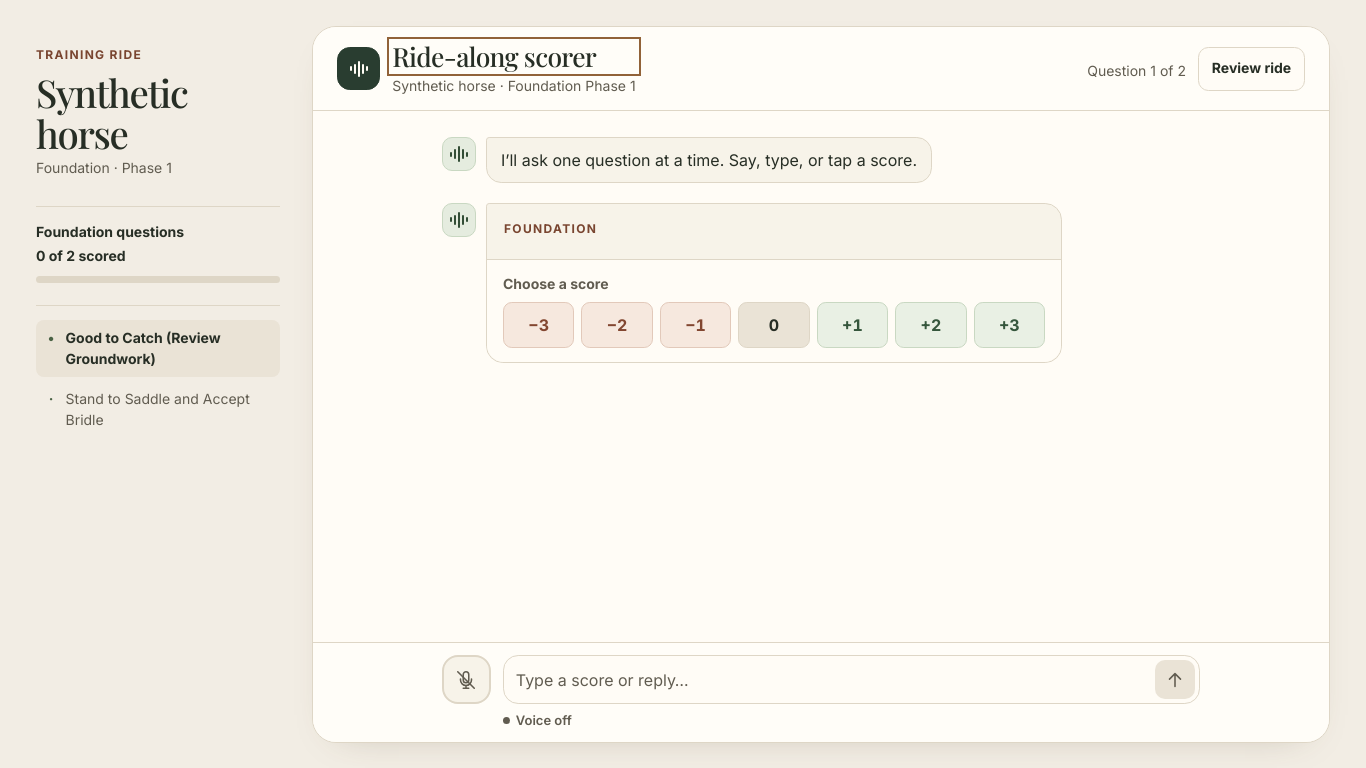
keeps invalid written input two or three on the same question without an inference or write
This screenshot has width=1366, height=768.
Type "two or three" into the field named "Type a message" at point(830, 680), box 508,663 -> 1151,697
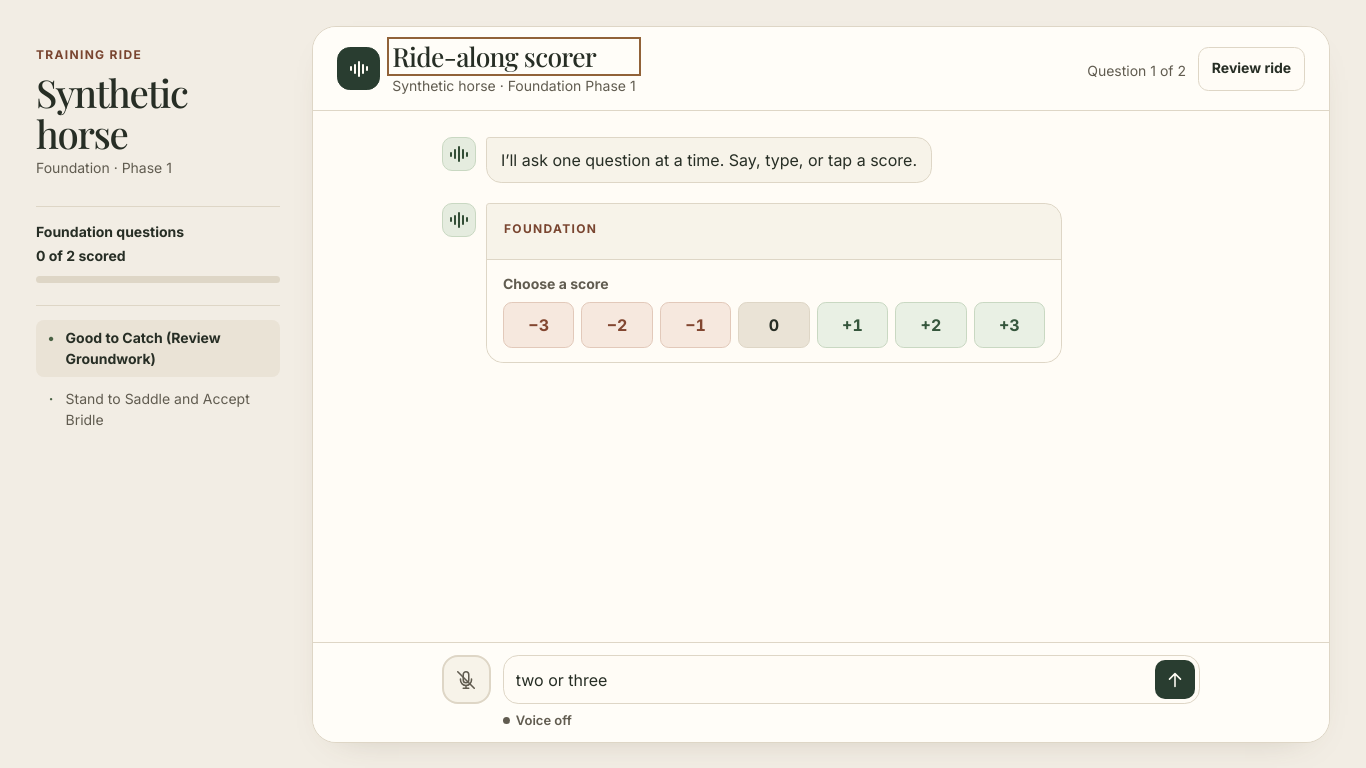
Click the button named "Send message" at point(1175, 680), box 1155,660 -> 1195,699
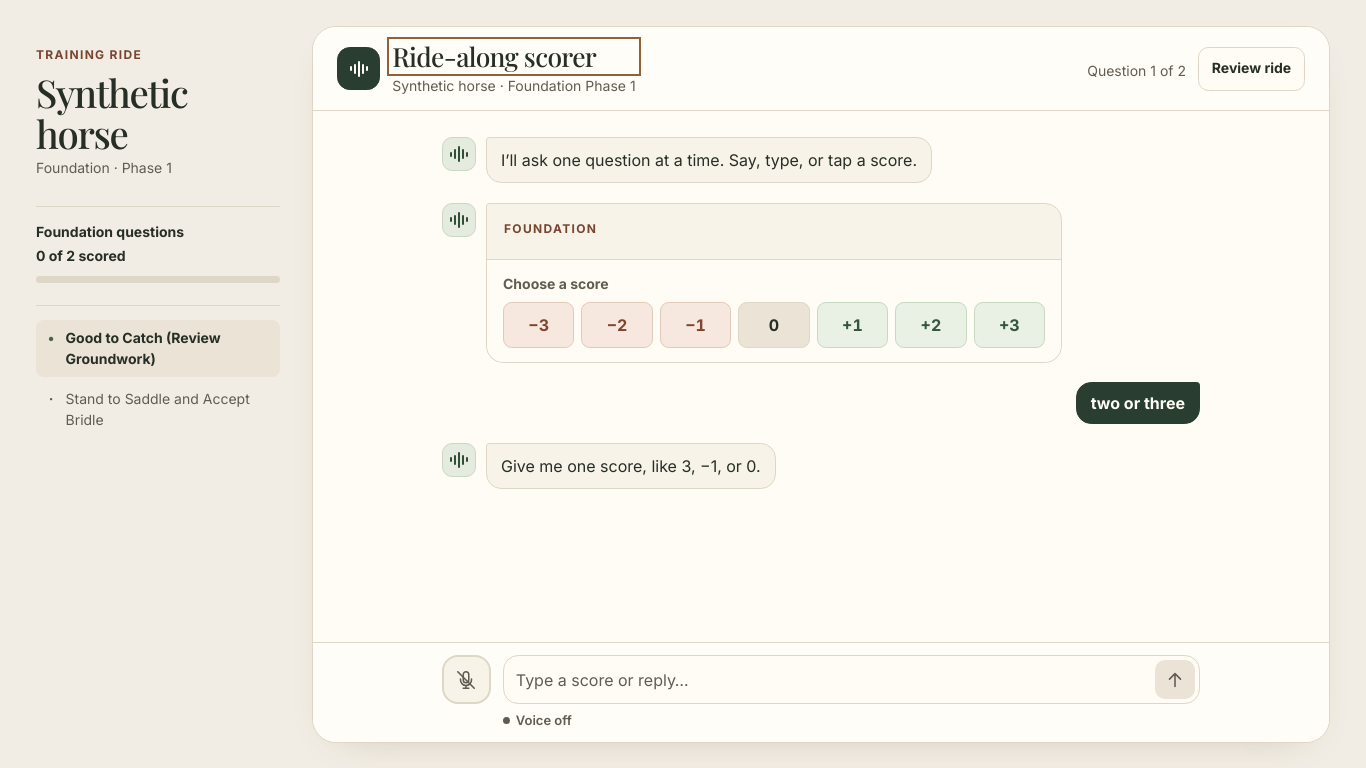
Expected: the text "Give me one score, like 3, −1, or 0." is shown, 486,443 -> 776,489
